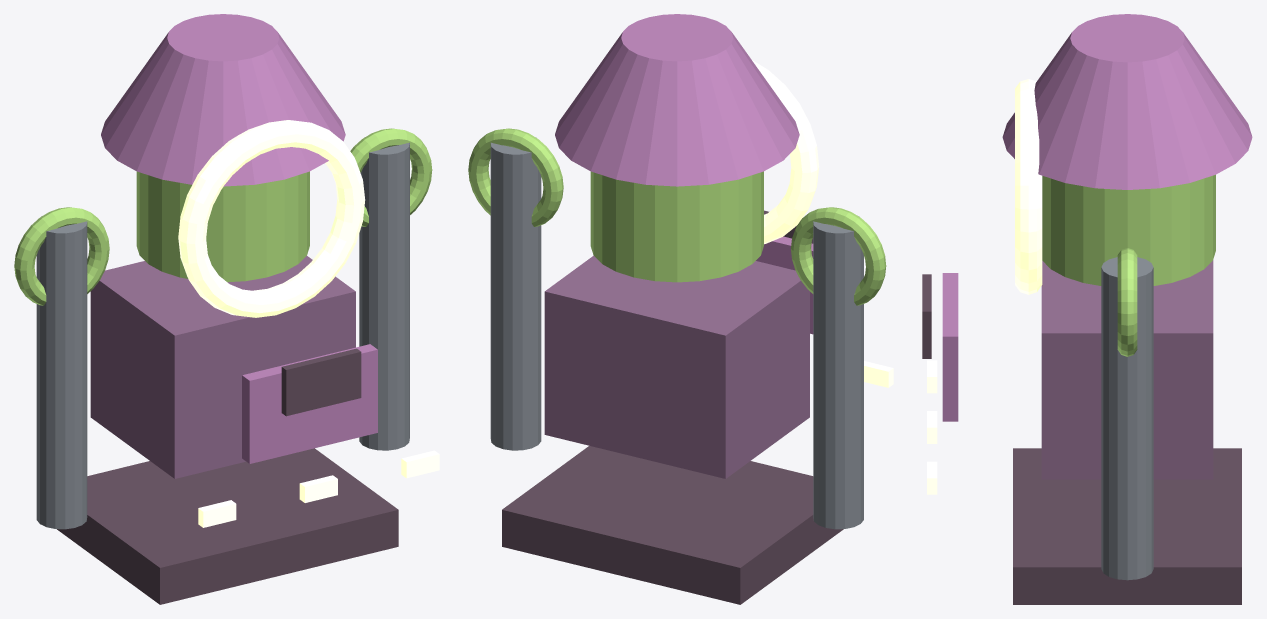
The model's file is asset.glb.
3 views of the same model, side by side, from view 1: azimuth 30°, elevation 25°; view 2: azimuth 150°, elevation 25°; view 3: azimuth 270°, elevation 25° (orthographic). The views are drawn at different scales.
Visible parts, largest first — view 1: Housing, Foot, TopCap, SidePost_-1, CoreHalo, Core, SidePost_1, FrontInset, ControlFace, SideRing_-1, SideRing_1, FunctionalTrim_1 (+2 smaller); view 2: Housing, Foot, TopCap, Core, SidePost_1, SidePost_-1, CoreHalo, SideRing_-1, SideRing_1, FrontInset, FunctionalTrim_0; view 3: TopCap, Foot, Housing, SidePost_1, Core, CoreHalo, FrontInset, SideRing_1, ControlFace.
Part boxes in pixels (x1=…): Housing: x1=90, y1=256, x2=355, y2=478; Foot: x1=57, y1=448, x2=398, y2=604; TopCap: x1=101, y1=14, x2=345, y2=186; SidePost_-1: x1=36, y1=216, x2=87, y2=529; CoreHalo: x1=178, y1=120, x2=365, y2=317; Core: x1=136, y1=171, x2=309, y2=282; SidePost_1: x1=359, y1=137, x2=409, y2=450; FrontInset: x1=242, y1=344, x2=377, y2=463; ControlFace: x1=281, y1=348, x2=361, y2=416; SideRing_-1: x1=14, y1=207, x2=109, y2=305; SideRing_1: x1=350, y1=128, x2=432, y2=226; FunctionalTrim_1: x1=299, y1=475, x2=337, y2=502; Housing: x1=544, y1=255, x2=809, y2=478; Foot: x1=502, y1=446, x2=843, y2=604; TopCap: x1=555, y1=14, x2=799, y2=186; Core: x1=590, y1=171, x2=763, y2=282; SidePost_1: x1=490, y1=137, x2=541, y2=450; SidePost_-1: x1=813, y1=216, x2=863, y2=529; CoreHalo: x1=752, y1=60, x2=819, y2=244; SideRing_-1: x1=791, y1=207, x2=886, y2=305; SideRing_1: x1=468, y1=128, x2=563, y2=226; FrontInset: x1=756, y1=236, x2=813, y2=334; FunctionalTrim_0: x1=864, y1=361, x2=893, y2=387; TopCap: x1=1002, y1=14, x2=1252, y2=189; Foot: x1=1013, y1=448, x2=1241, y2=604; Housing: x1=1041, y1=260, x2=1213, y2=479; SidePost_1: x1=1101, y1=257, x2=1153, y2=580; Core: x1=1042, y1=174, x2=1215, y2=285; CoreHalo: x1=1015, y1=79, x2=1042, y2=294; FrontInset: x1=942, y1=273, x2=958, y2=421; SideRing_1: x1=1117, y1=248, x2=1137, y2=356; ControlFace: x1=922, y1=274, x2=931, y2=358.
Bounding box in the file's own units: 1.88 × 2.15 × 1.27.
